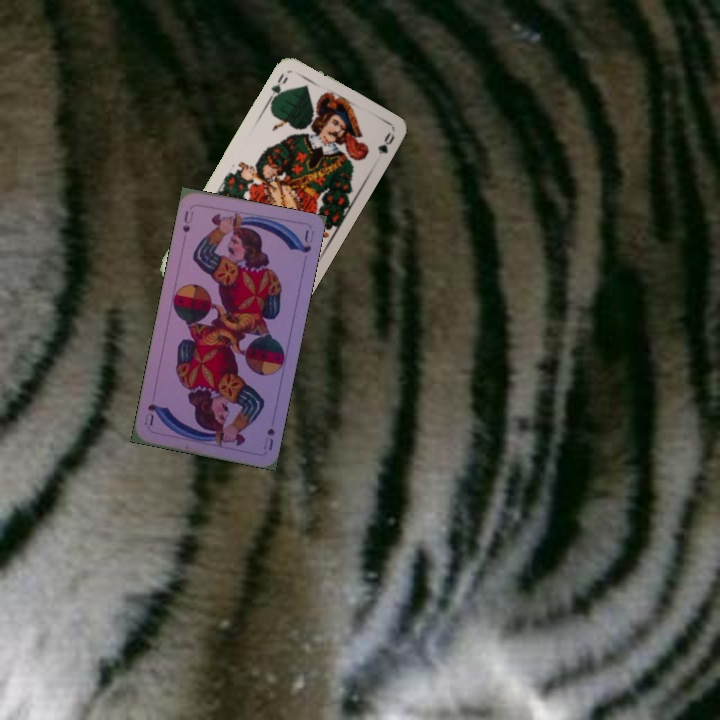GO: (264, 69, 291, 105)
SU: (259, 424, 277, 453), (178, 207, 196, 235)
